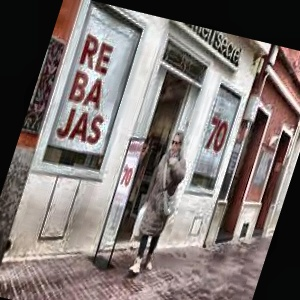women_secret: (188, 24, 300, 57)
